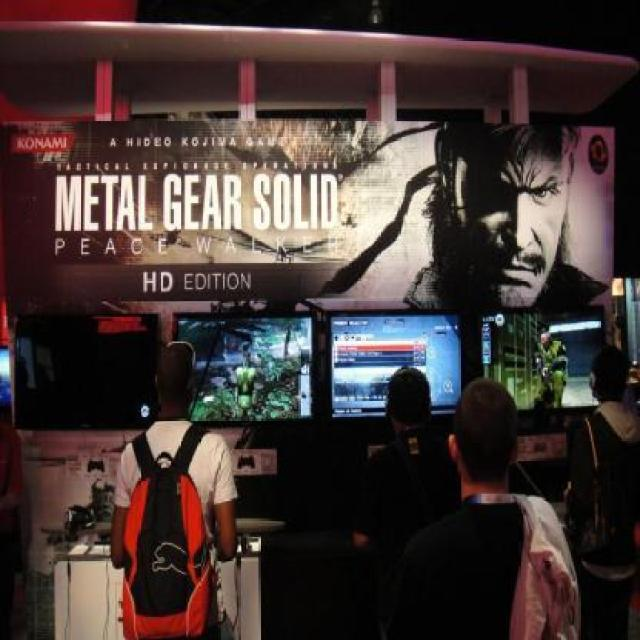backpack: (117, 418, 218, 640), (568, 486, 617, 565)
